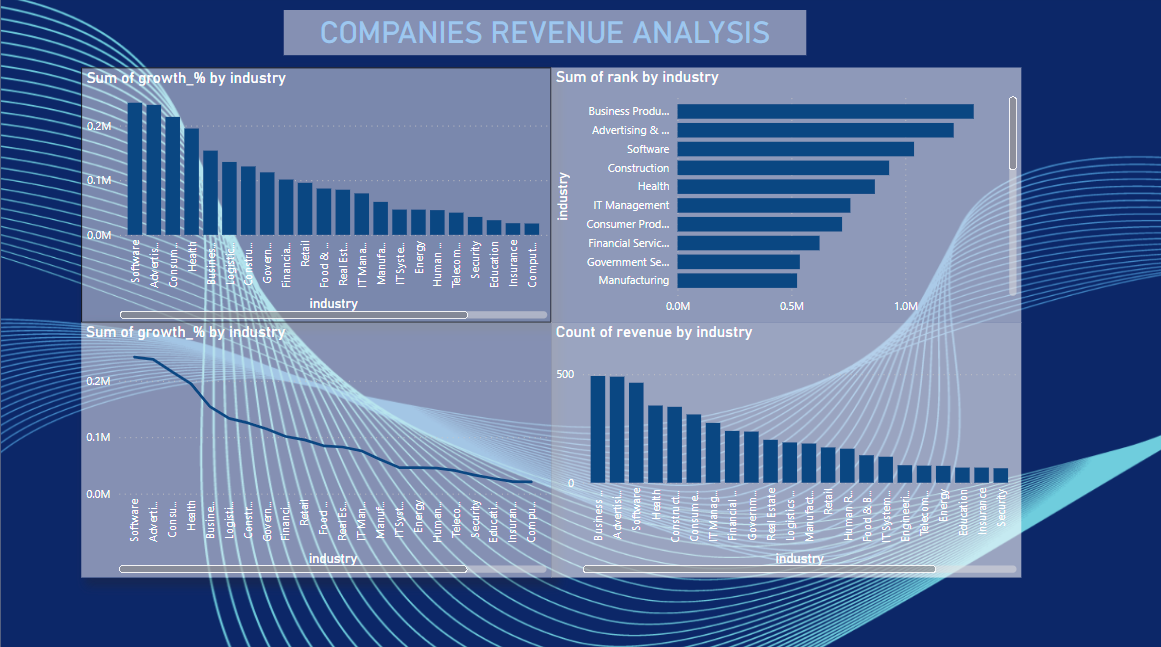

The dashboard page shown, as its layout file describes it:
{"tool":"powerbi","page":{"name":"Page 1","canvas":[1280,720],"ordinal":0},"visuals":[{"type":"clusteredColumnChart","fields":{"Category":["INC 5000 Companies 2019.industry"],"Y":["Sum(INC 5000 Companies 2019.growth_%)"]},"box":[89.2,79.6,516,279.9],"z":0},{"type":"lineChart","fields":{"Category":["INC 5000 Companies 2019.industry"],"Y":["Sum(INC 5000 Companies 2019.growth_%)"]},"box":[89.2,359.5,516,279.9],"z":1000},{"type":"clusteredBarChart","fields":{"Y":["Sum(INC 5000 Companies 2019.rank)"],"Category":["INC 5000 Companies 2019.industry"]},"box":[605.1,79.6,516,279.9],"z":2000},{"type":"clusteredColumnChart","fields":{"Category":["INC 5000 Companies 2019.industry"],"Y":["CountNonNull(INC 5000 Companies 2019.revenue)"]},"box":[605.1,359.5,516,279.9],"z":3000},{"type":"textbox","box":[311.5,16.5,573.6,49.4],"z":3001}]}

Visuals, with their boxes in screenshot pixels (x1, y1, x2, y2), scaled from the page's 1280x720 canvas onto the 1161x647 screenshot:
clusteredColumnChart - INC 5000 Companies 2019.industry x Sum(INC 5000 Companies 2019.growth_%): <bbox>81, 72, 549, 323</bbox>
lineChart - INC 5000 Companies 2019.industry x Sum(INC 5000 Companies 2019.growth_%): <bbox>81, 323, 549, 575</bbox>
clusteredBarChart - Sum(INC 5000 Companies 2019.rank) x INC 5000 Companies 2019.industry: <bbox>549, 72, 1017, 323</bbox>
clusteredColumnChart - INC 5000 Companies 2019.industry x CountNonNull(INC 5000 Companies 2019.revenue): <bbox>549, 323, 1017, 575</bbox>
textbox: <bbox>283, 15, 803, 59</bbox>
